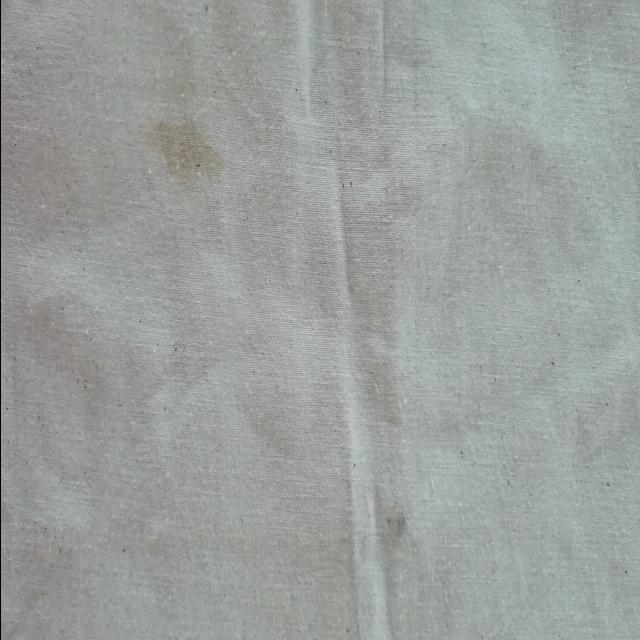taaaches: (134, 99, 230, 208), (354, 474, 417, 572)
